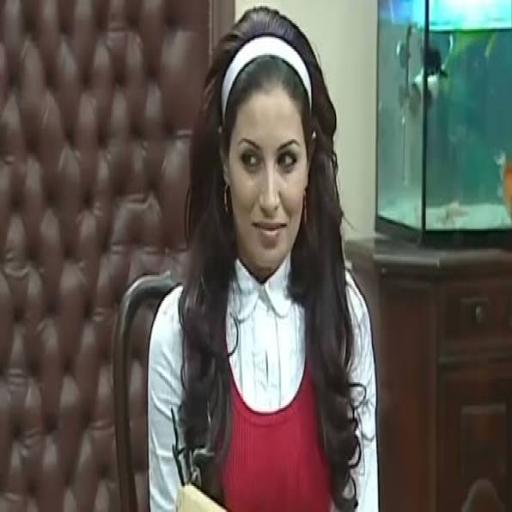Dalanda: (219, 57, 315, 281)
